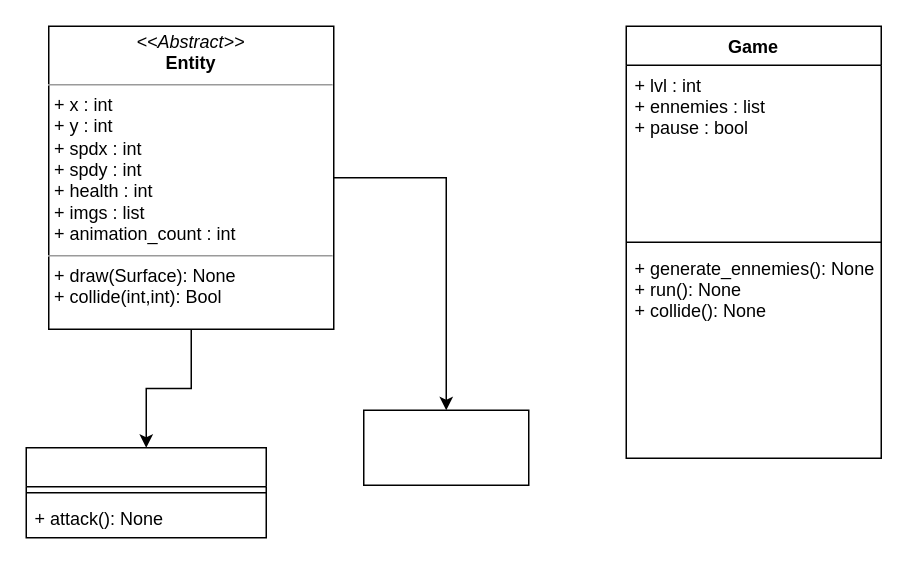
Some shapes in this 908 by 569 pixel diagram are drawn without their labels. Each missing label, with the box of its shape:
Player: (25, 446, 266, 538)
«Abstract» Ennemy: (362, 409, 529, 485)
